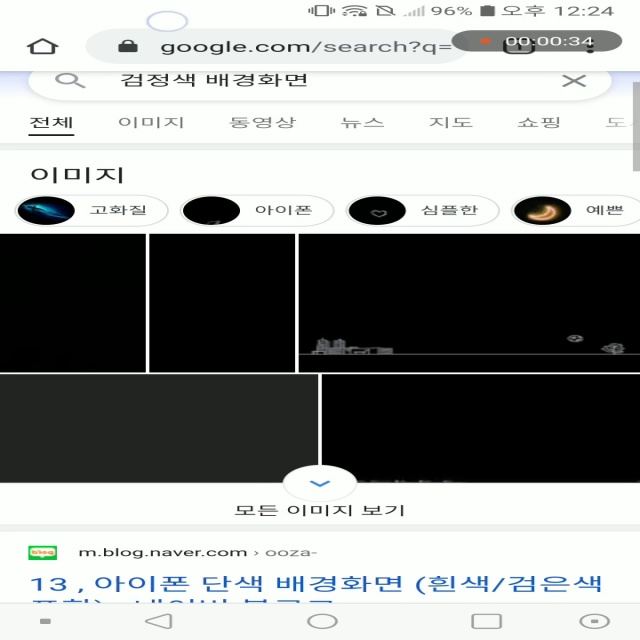Cursor: (146, 11, 191, 33)
